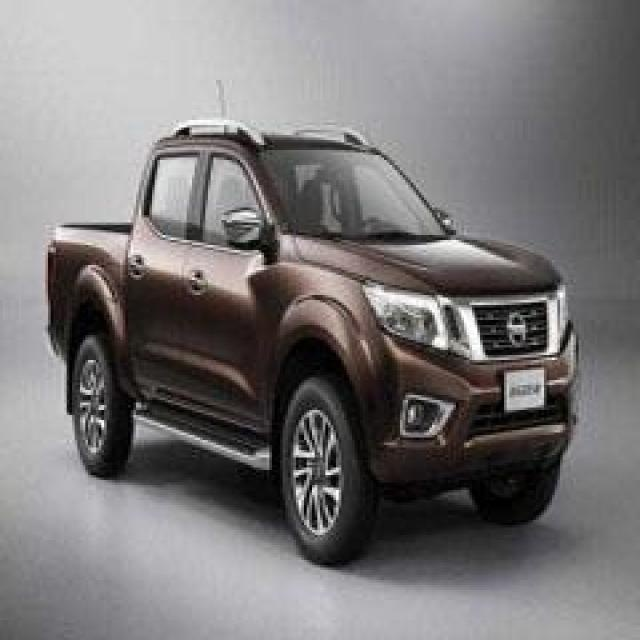car: (36, 86, 612, 591)
